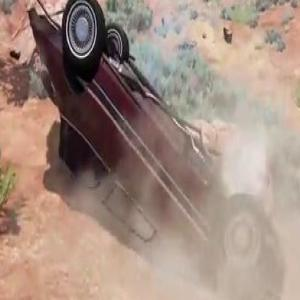fatal: (23, 0, 288, 300)
